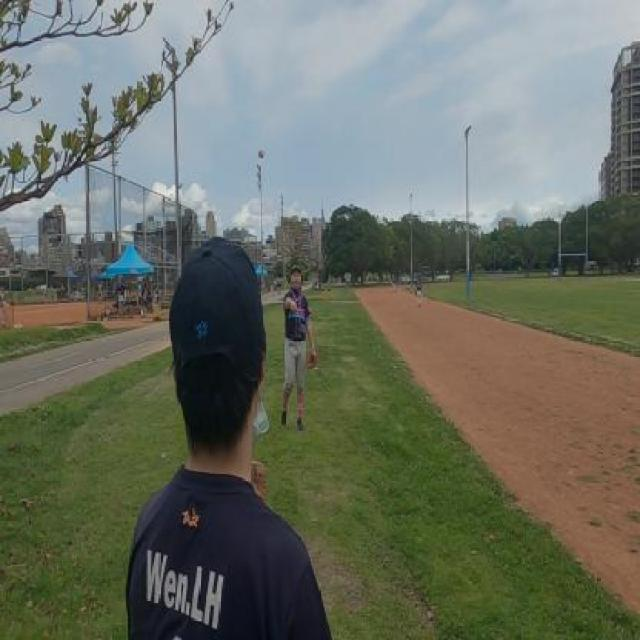baseball: (258, 148, 264, 160)
